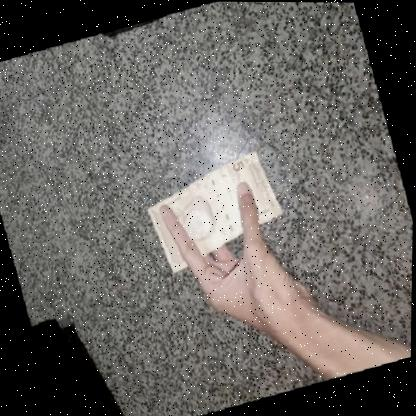five-front-vef: (139, 147, 293, 277)
